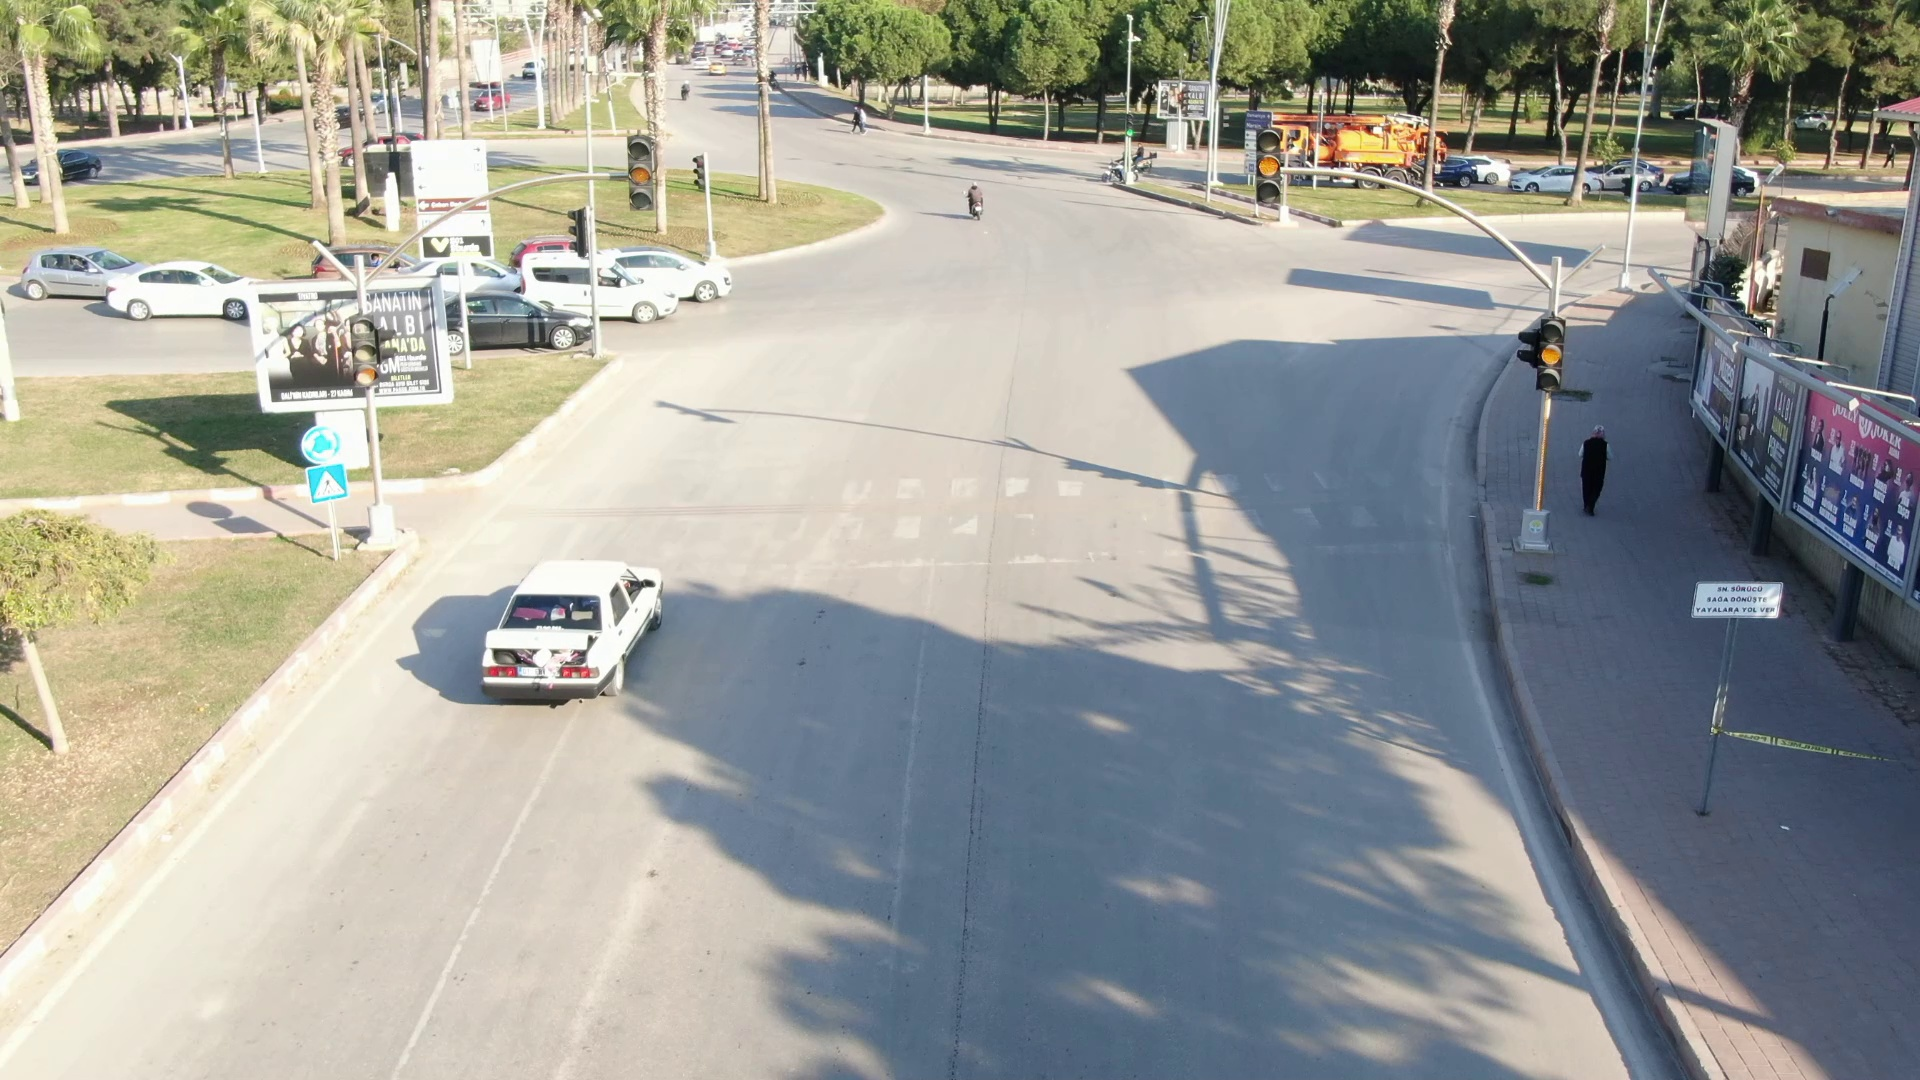car: (466, 549, 680, 702), (512, 241, 719, 329), (423, 276, 608, 359), (586, 231, 745, 304), (106, 259, 263, 323), (10, 243, 149, 294)
person: (1568, 415, 1614, 517), (957, 174, 1000, 227)
